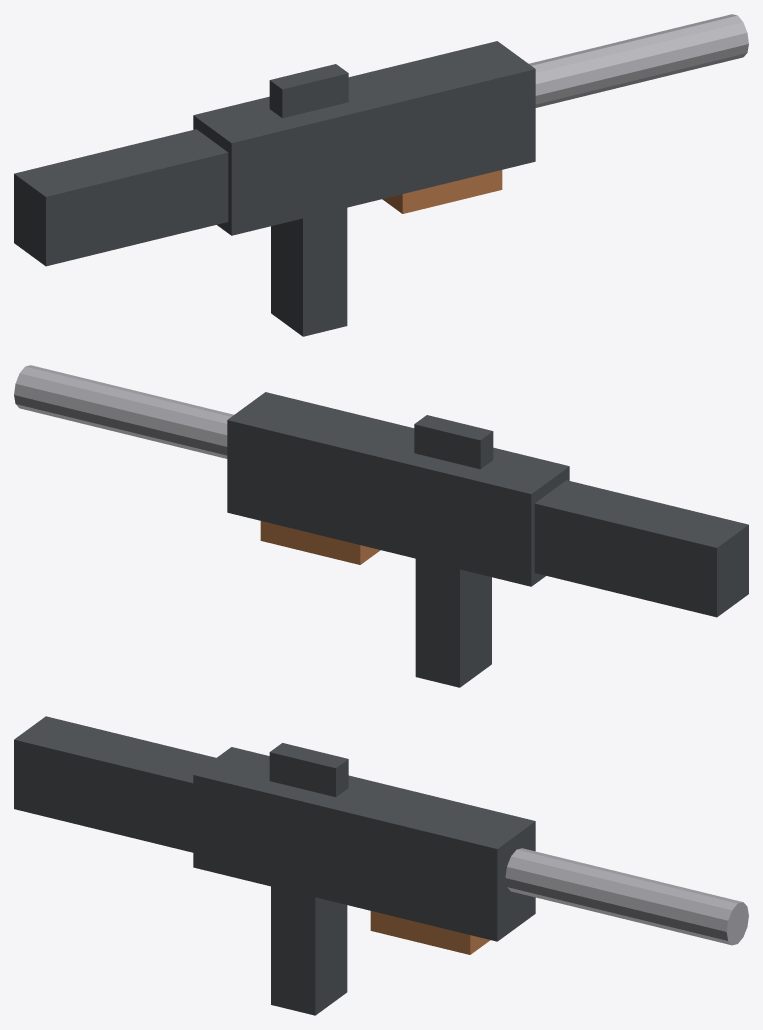
File: rifle.glb
3 views of the same model, one above another, from view 1: azimuth 30°, elevation 25°; view 2: azimuth 150°, elevation 25°; view 3: azimuth 330°, elevation 25° (orthographic).
Parts seen in each view (by area): view 1: rifle; view 2: rifle; view 3: rifle.
Boxes of the visible parts, <box> form: rifle: <box>14,14,748,336</box>; rifle: <box>14,365,748,687</box>; rifle: <box>14,716,748,1015</box>.
Bounding box in the file's own units: 1.28 × 0.42 × 0.12.
